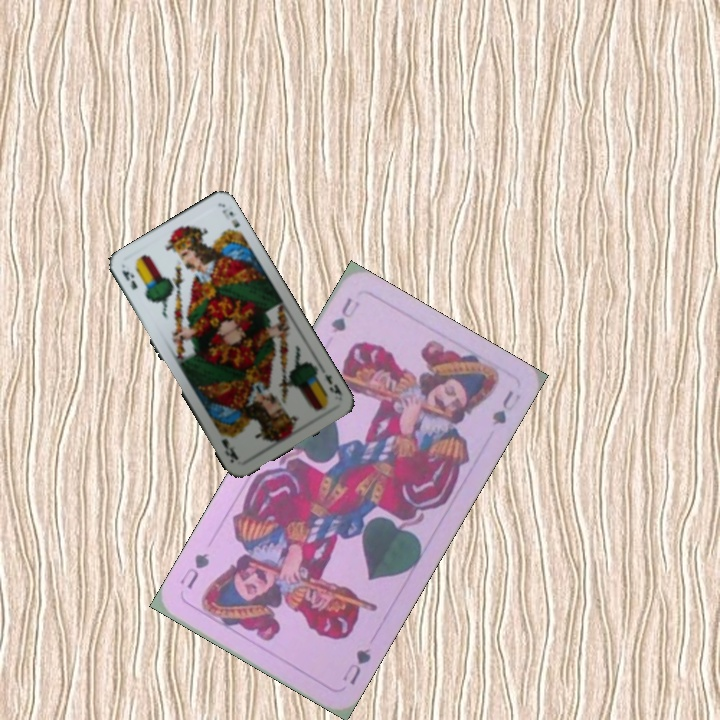EK: (320, 369, 345, 400), (118, 266, 140, 292)
GU: (326, 293, 363, 336), (338, 644, 374, 688)
